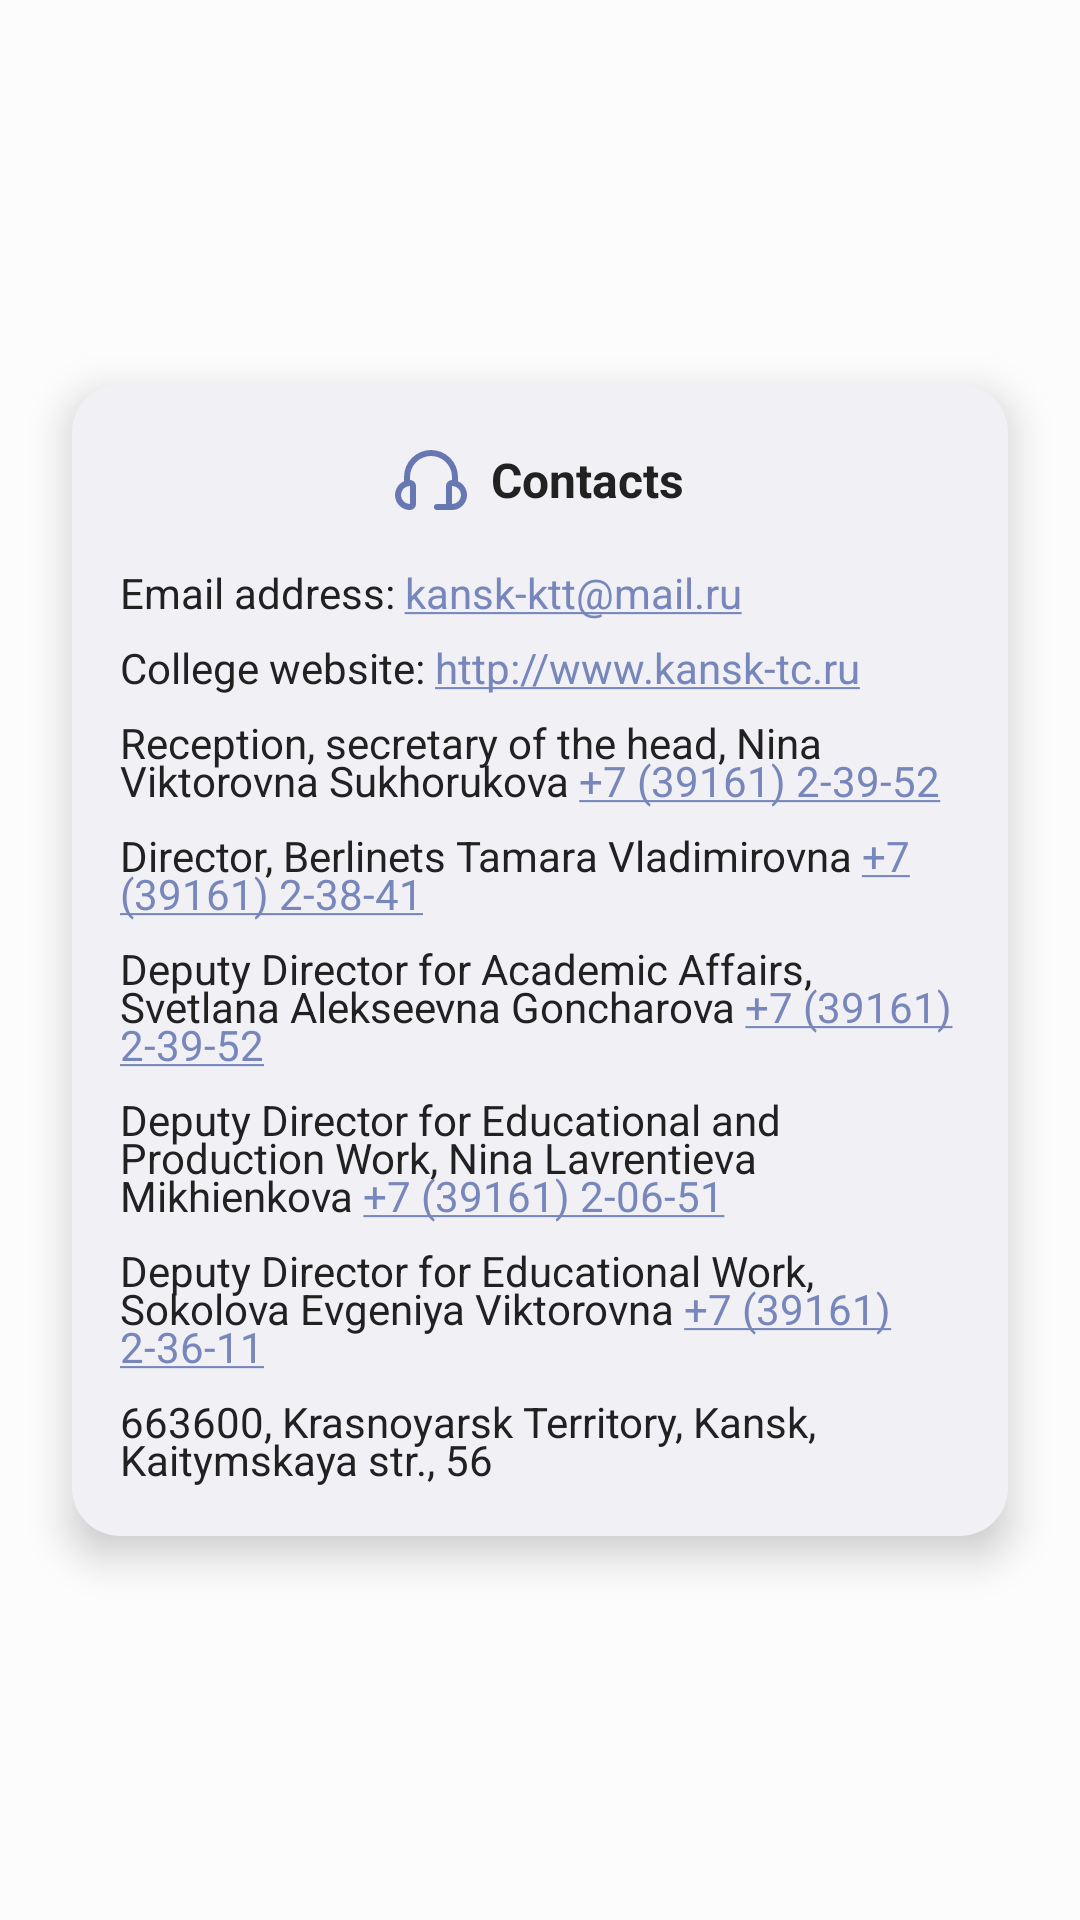

Icons on this 1080 × 1920 Android screen, each with its box as [x1=x1, y1=y1, x2=x2, y2=y2]:
headset: [x1=395, y1=450, x2=467, y2=510]
